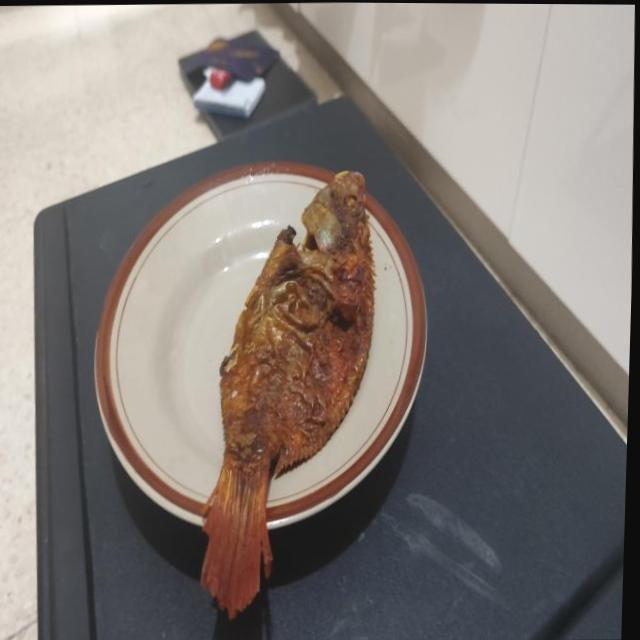ikan_mujair: (200, 170, 374, 616)
